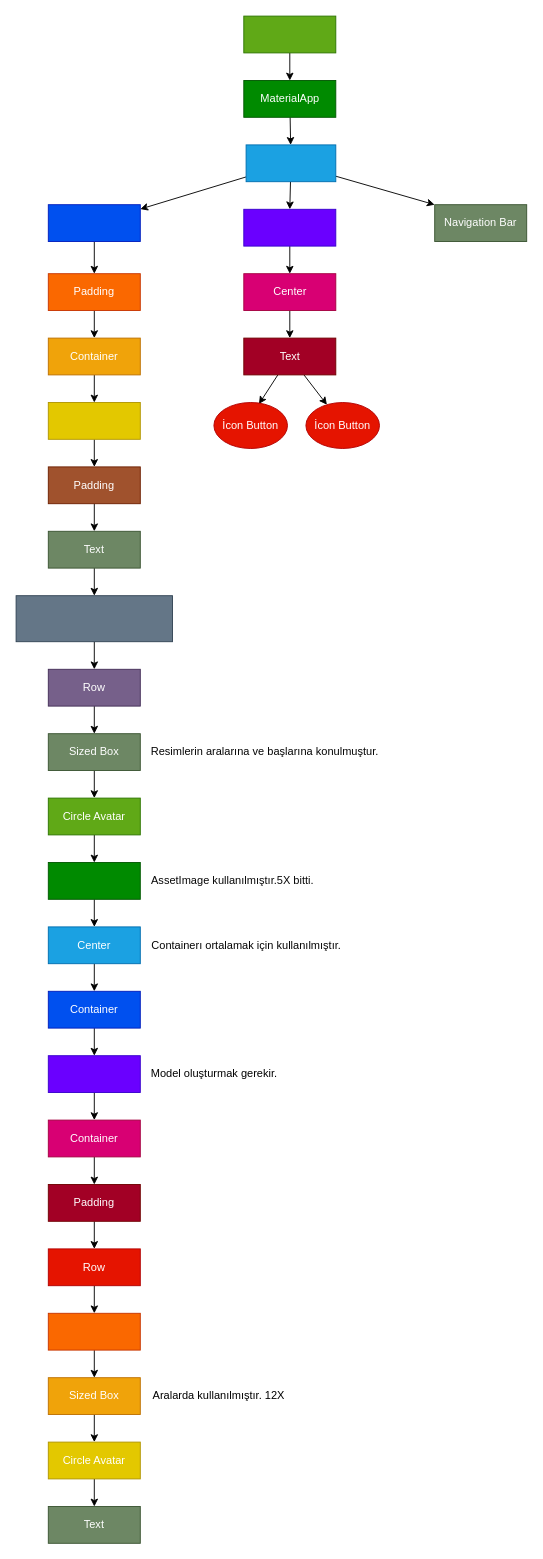
The diagram is 543 pixels wide and 1559 high, and some of its shapes have lost their labels. The centre of each missing label's shape, as x and y in pixels:
"AppBar" belongs at (289,227).
"Column" belongs at (93,223).
"Image" belongs at (93,420).
"İmage" belongs at (93,880).
"List View" belongs at (93,1073).
"Main Axis Aligment" belongs at (93,1331).
"MyApp" belongs at (289,34).
"Scaffold" belongs at (290,163).
"Single Child Scrool View" belongs at (93,618).
